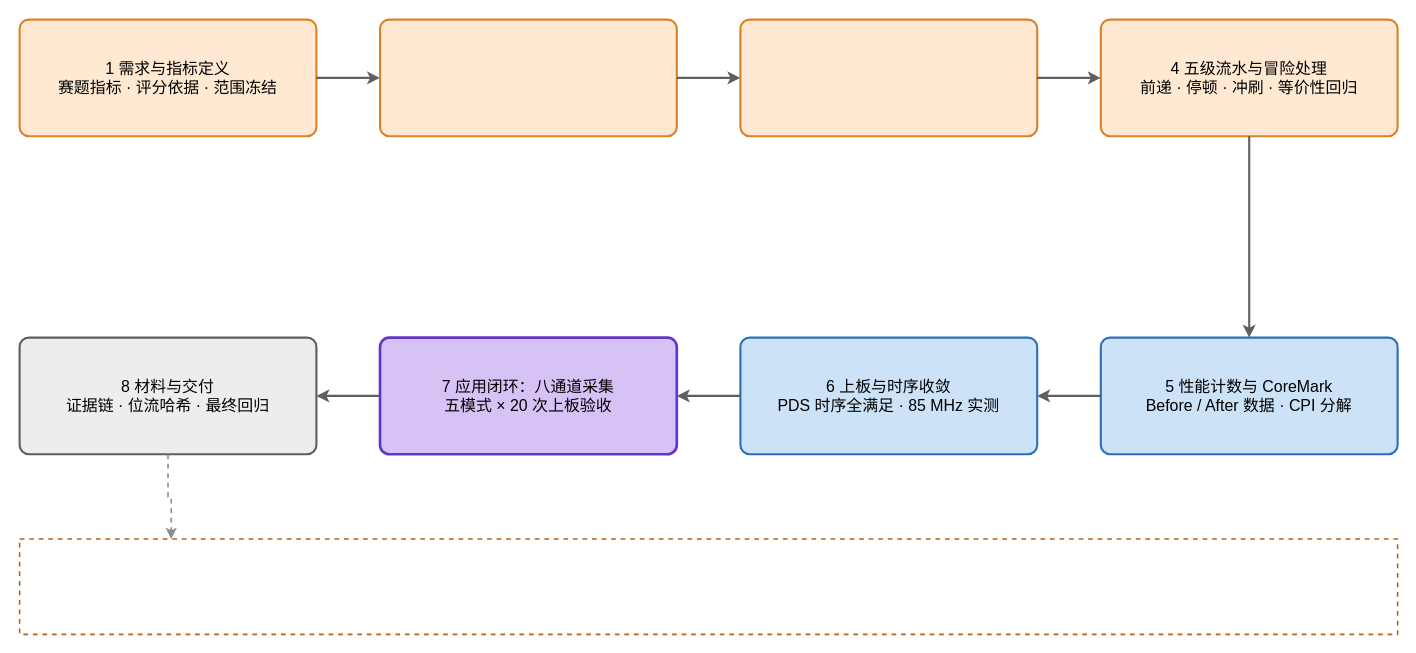
Some shapes in this 1416 by 653 pixel diagram are drawn without their labels. Here are the shapes that lost their labels. From the top down, the centre of each, then its label:
At point 527,77: "2 单周期 RV32I 参考模型 回归全 PASS · 提交序列冻结".
At point 888,77: "3 SoC 与 MMIO · UART / GPIO 核边界冻结 · 换外设不改核".
At point 708,586: "每一阶段设进入条件与验收条件：未通过验证不进入下一阶段；增强项以 Before / After 数据判定是否保留".
